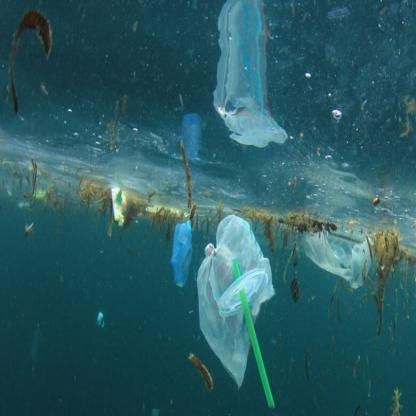Rác: (200, 219, 270, 393), (225, 2, 282, 149), (233, 260, 271, 392), (312, 227, 366, 293), (170, 225, 192, 284), (113, 184, 128, 222)
